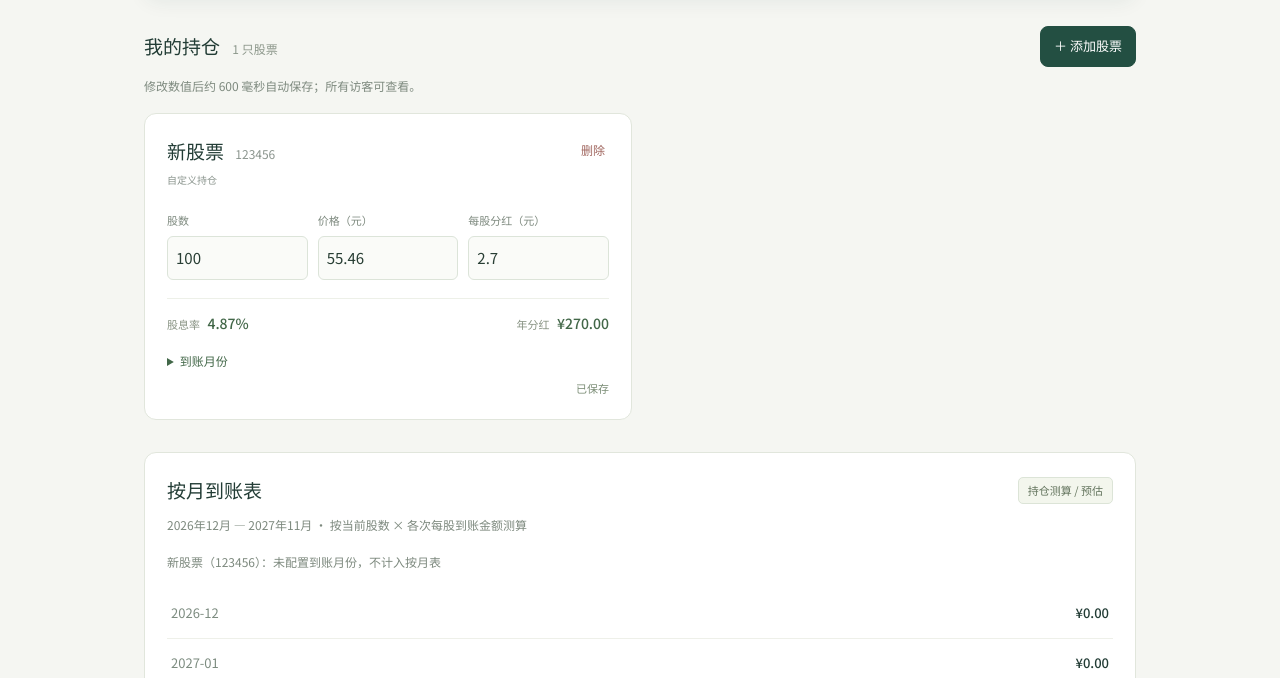
Scenario: 管理员为无配置股票添加到账后立即计入月表并随持仓保存，可标特别分红及删除
The width and height of the screenshot is (1280, 678).
(page scrolled)
Click the heading "到账月份" at (204, 360), box top-left (180, 352), bottom-right (228, 368)
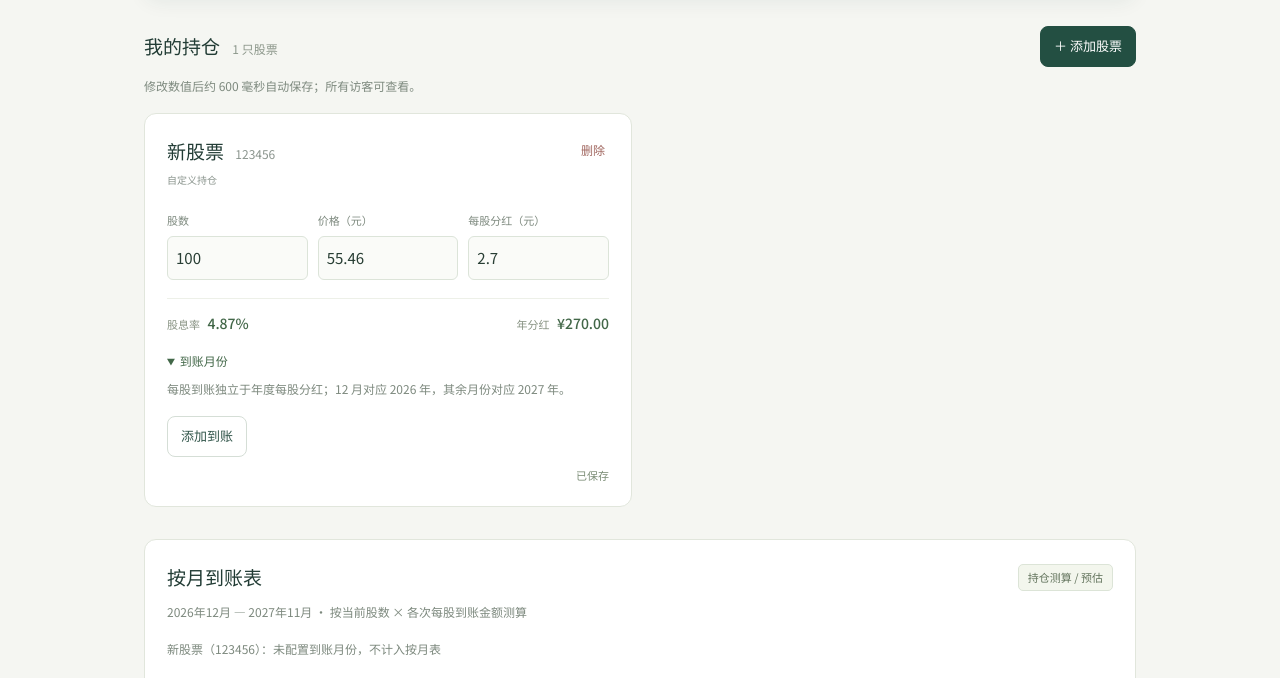
Click the button "添加到账" at (207, 436), box top-left (167, 416), bottom-right (247, 457)
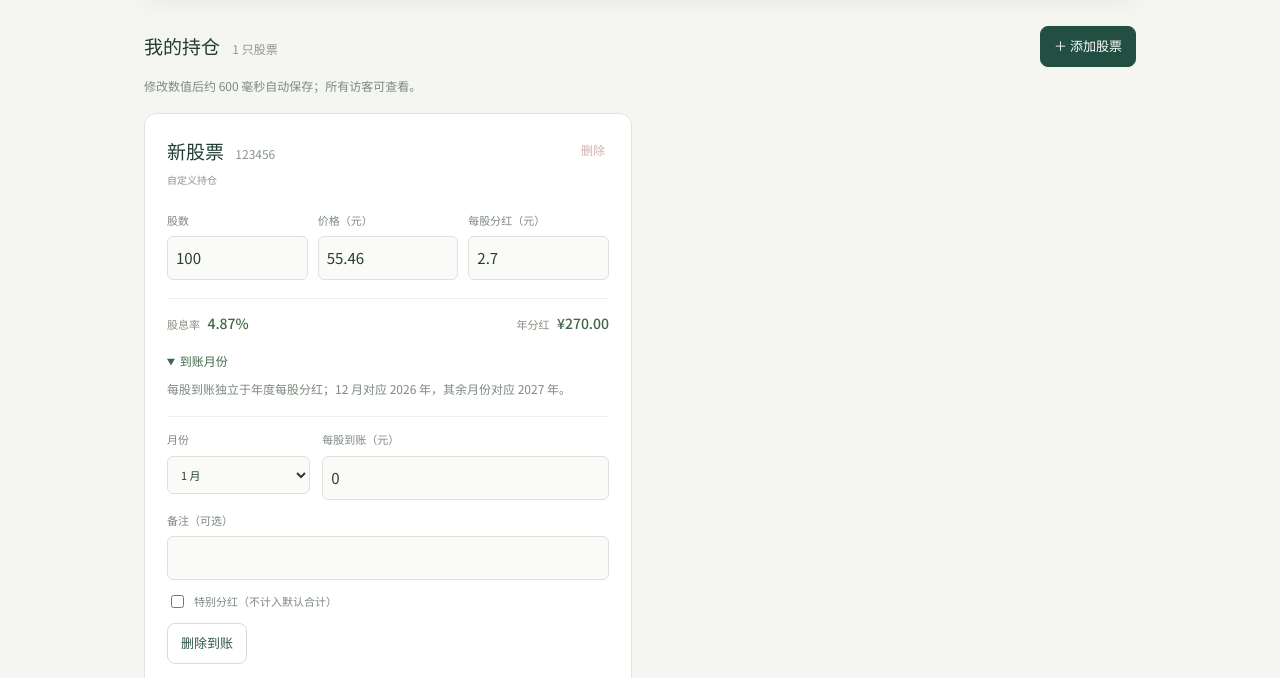
Select "12 月" in the dropdown named "新股票到账1月份" at (239, 474), box top-left (167, 456), bottom-right (310, 494)
Replace the text in the number field named "新股票到账1每股金额" with "0.5" at (466, 478), box top-left (322, 456), bottom-right (609, 500)
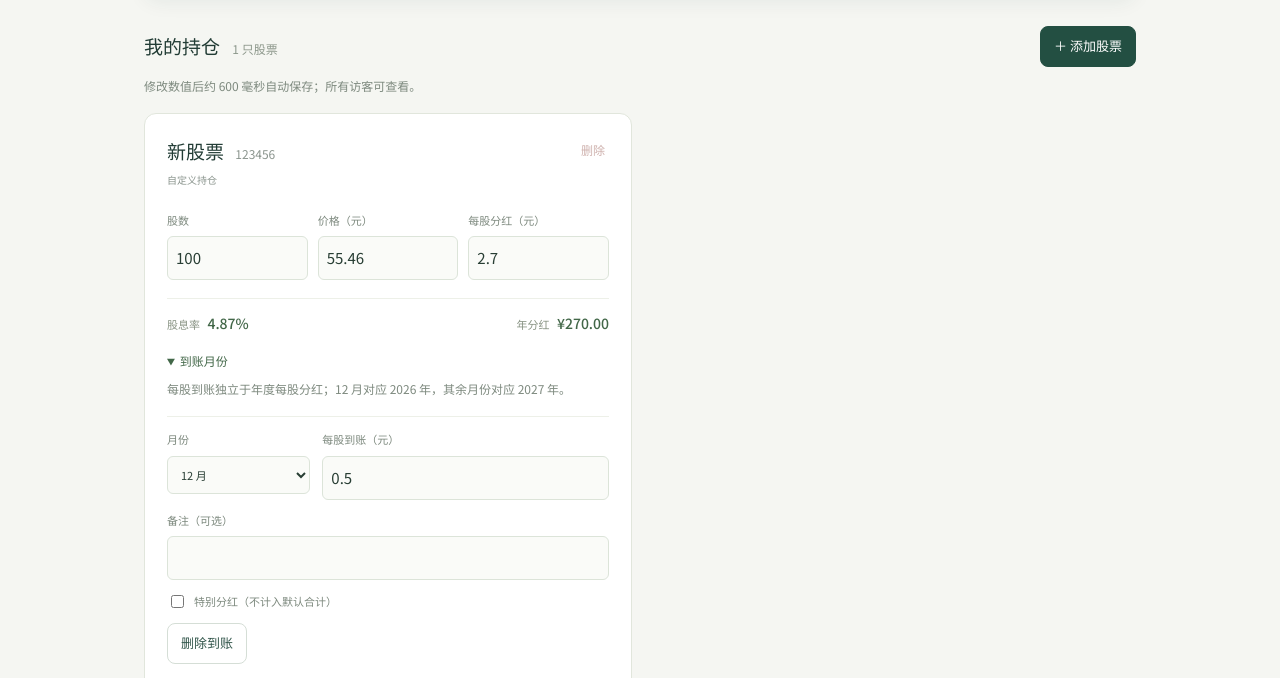
Type "新增到账" into the field named "新股票到账1备注" at (388, 558), box top-left (167, 536), bottom-right (609, 580)
Wait 600 ms
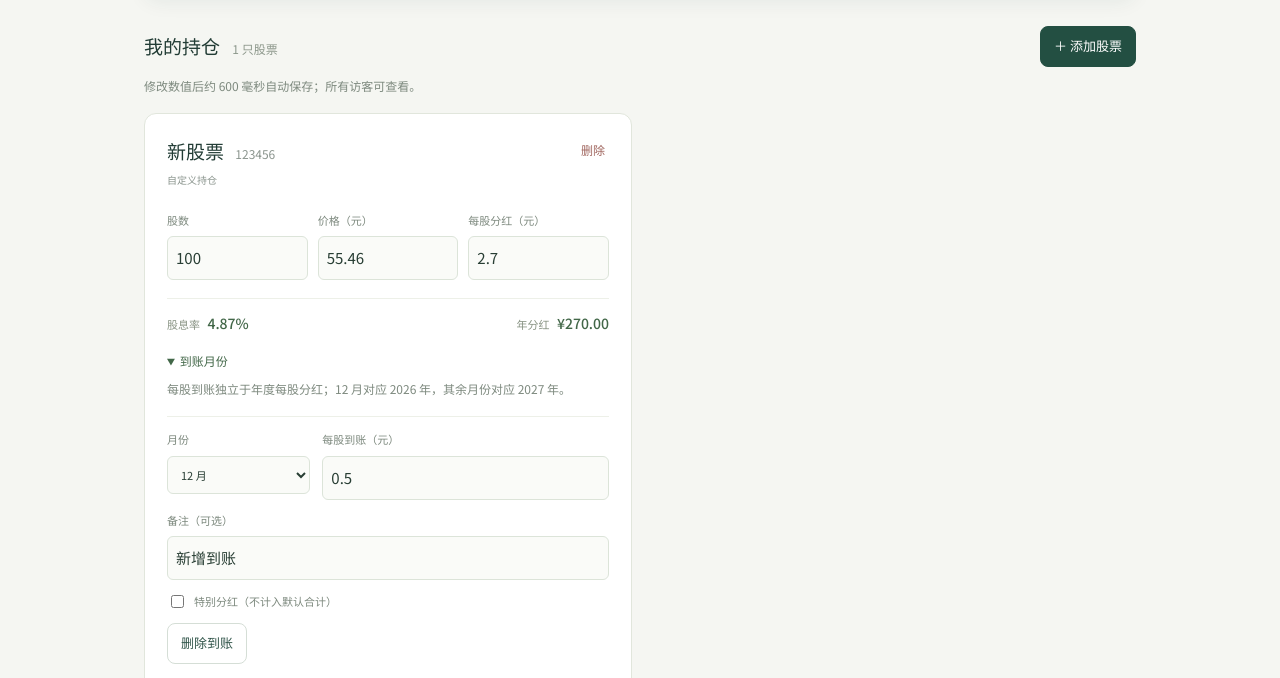
Expected: the text "新股票（123456）：未配置到账月份，不计入按月表" is not shown
Click the checkbox named "新股票到账1特别分红" at (178, 602), box top-left (171, 595), bottom-right (184, 608)
Wait 600 ms
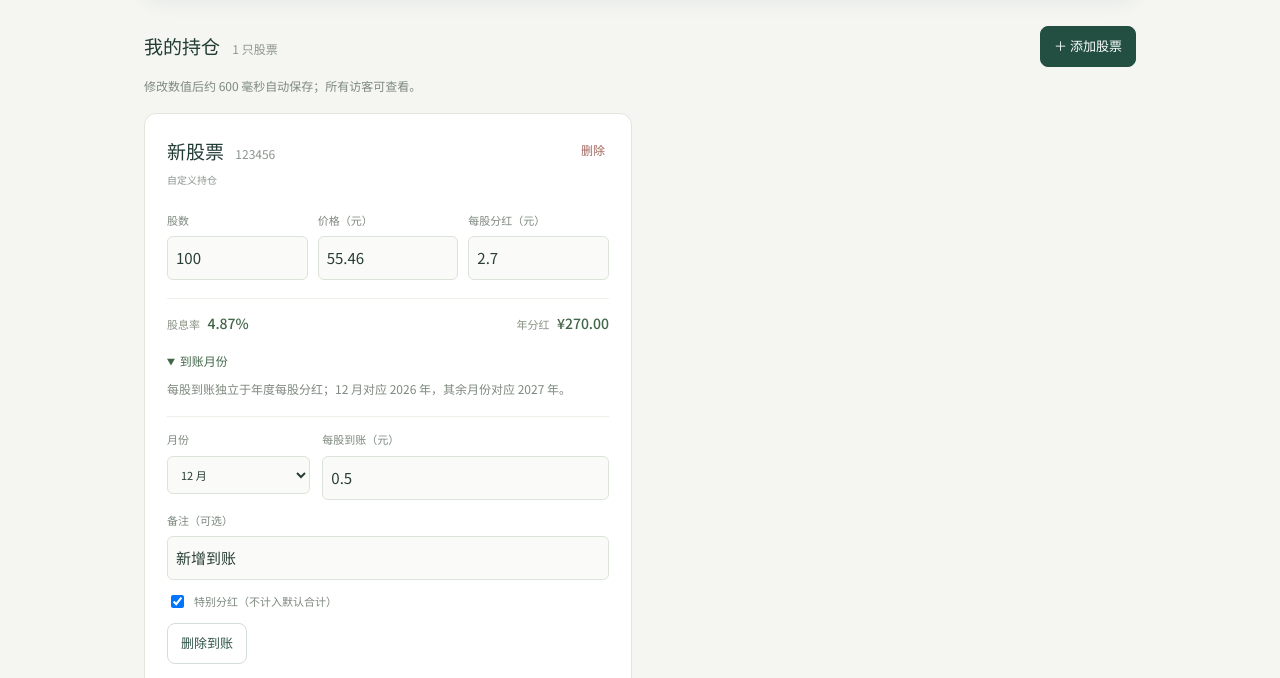
Click the button with aria-label "删除新股票到账1" at (207, 644), box top-left (167, 623), bottom-right (247, 664)
Wait 600 ms
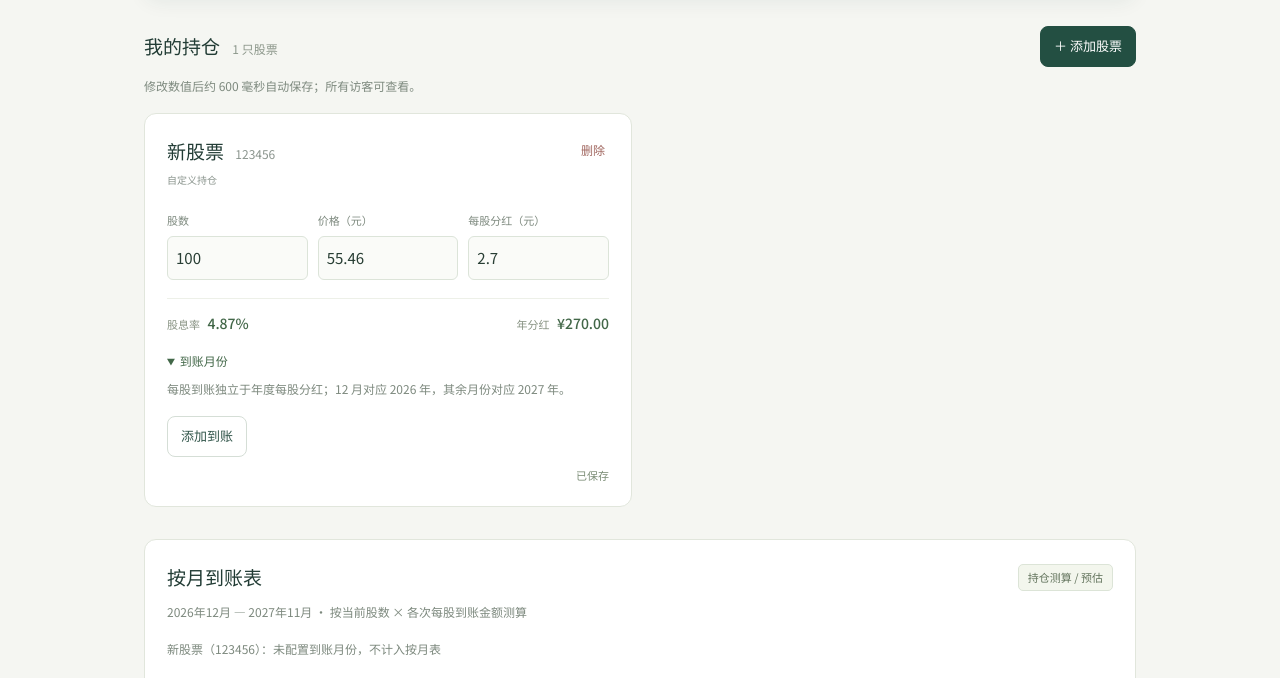
Expected: the text "新股票（123456）：未配置到账月份，不计入按月表" is shown, top-left (167, 640), bottom-right (441, 657)
